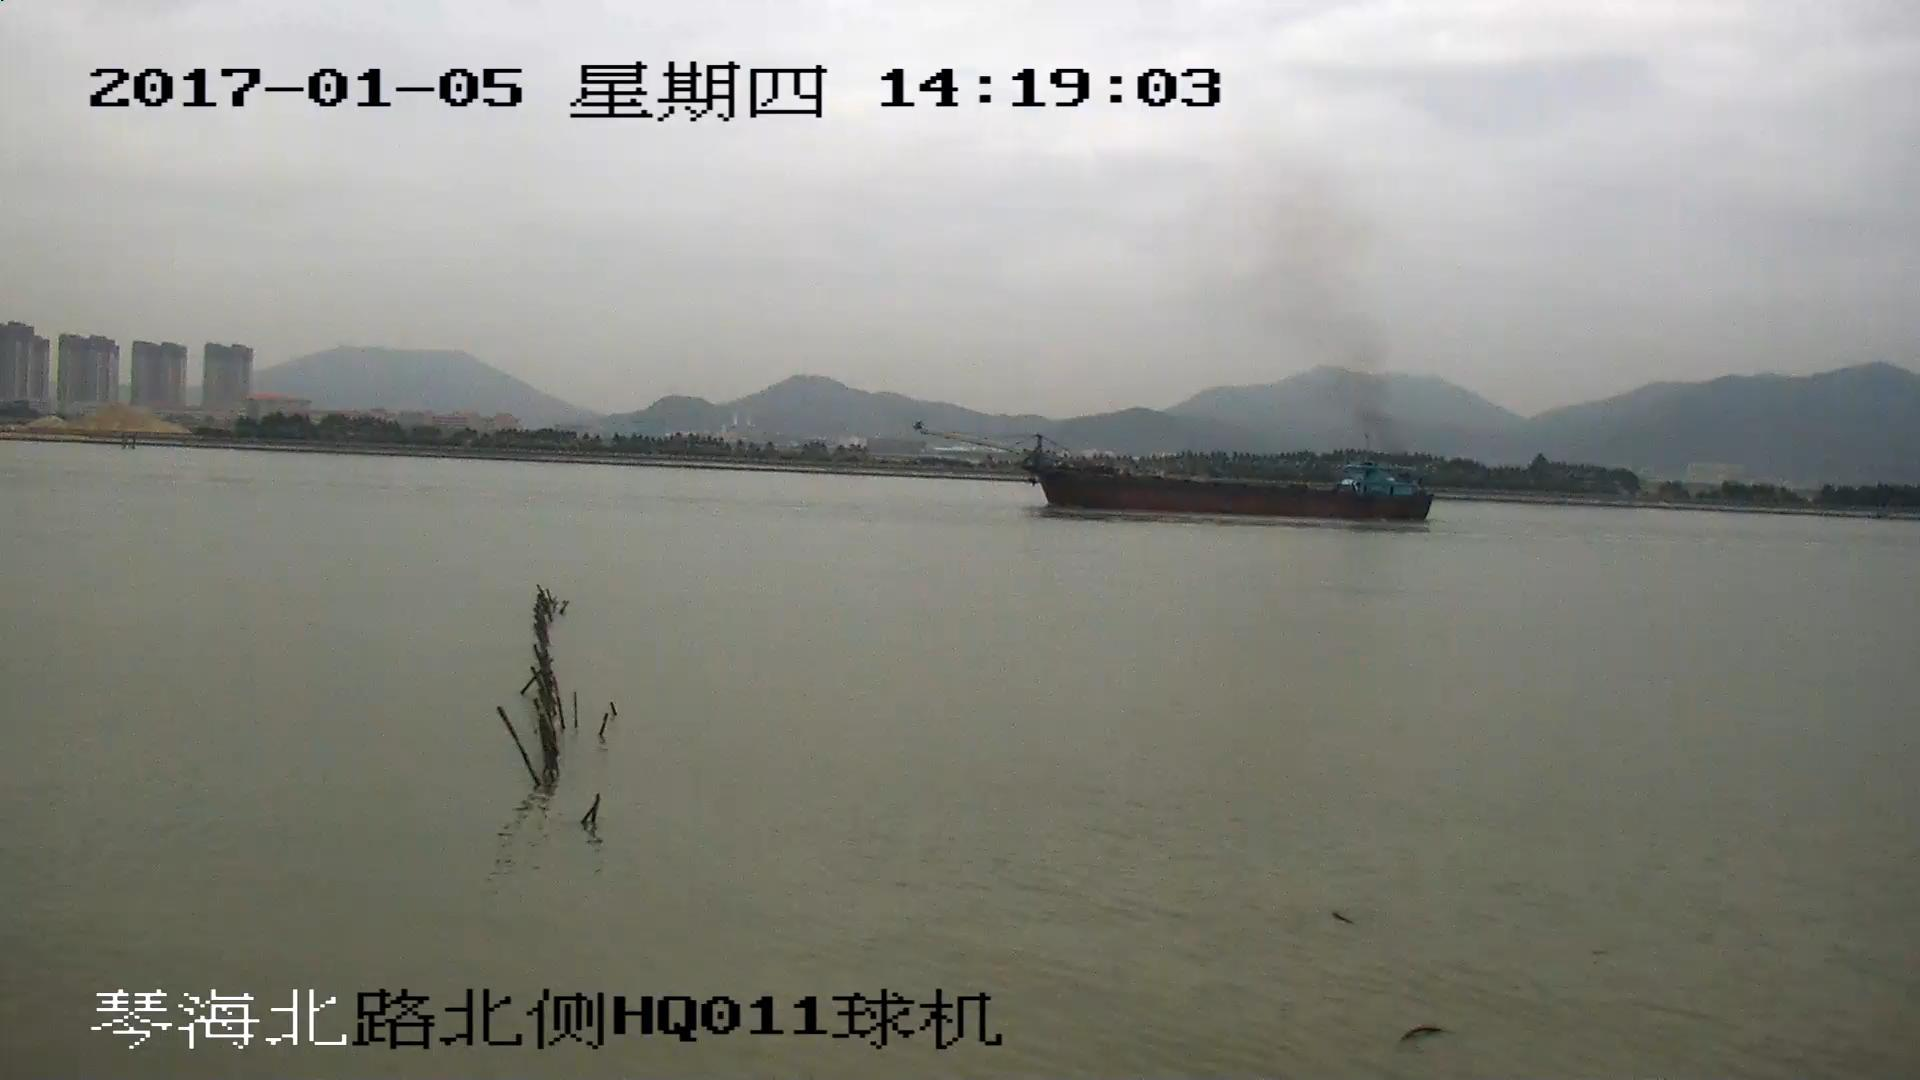Ship: (916, 430, 1436, 525)
